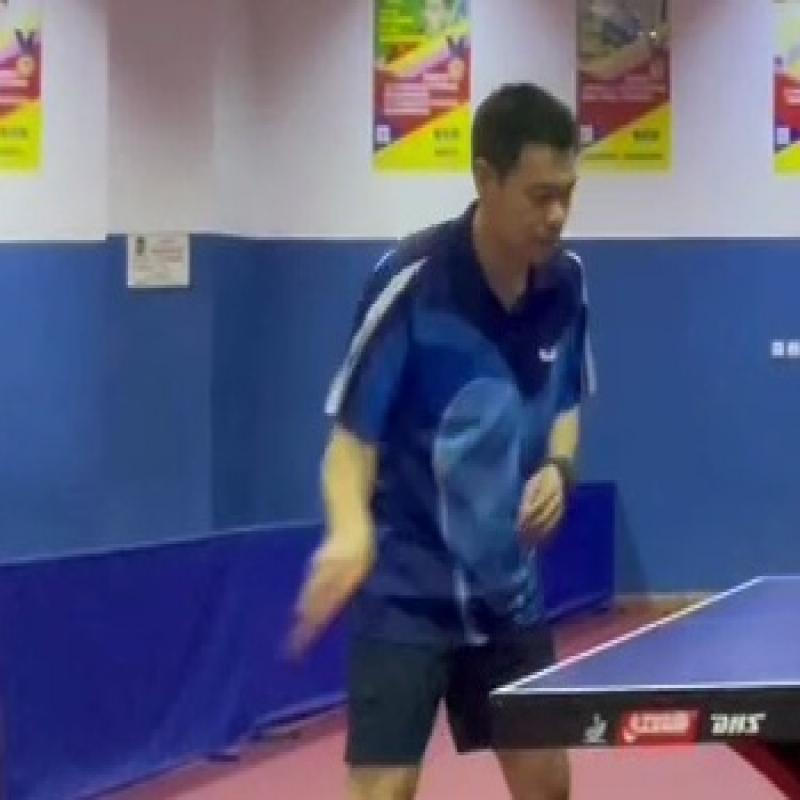bats: (278, 550, 380, 672)
